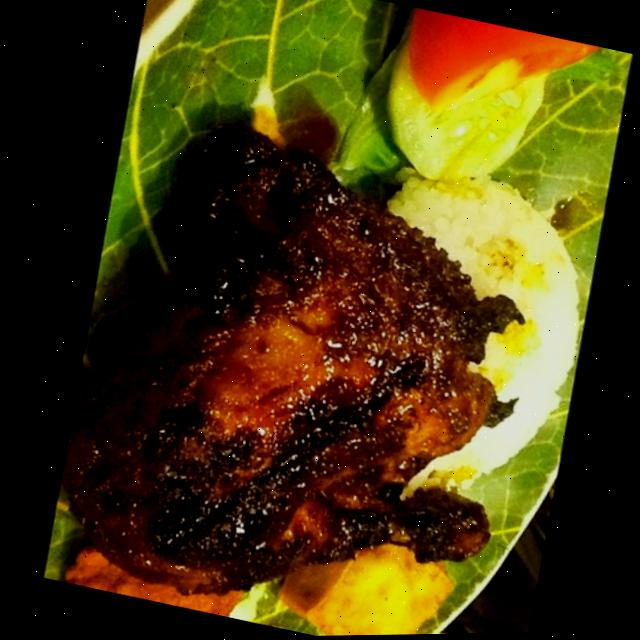鸡肉料理 含炸鸡: (30, 29, 631, 640)
